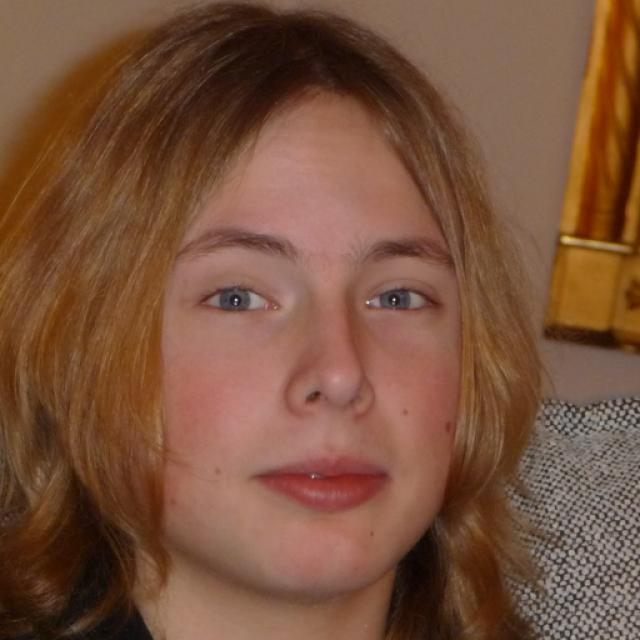neutral: (124, 78, 464, 600)
